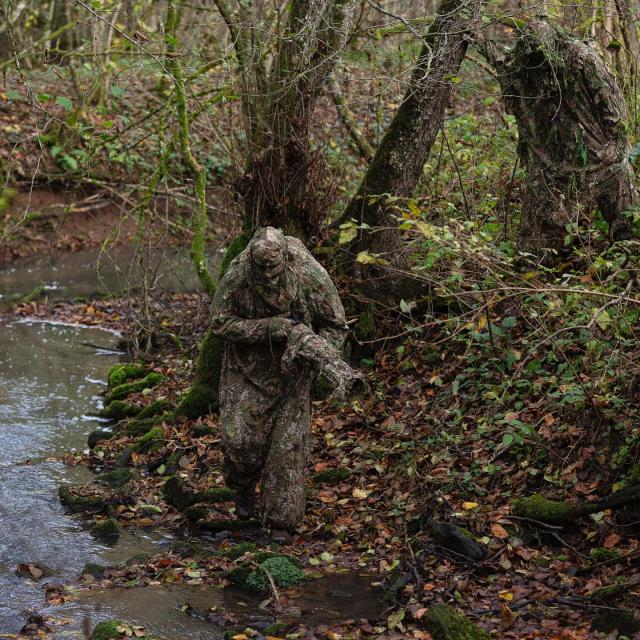human: (211, 227, 353, 528), (471, 18, 640, 246)
